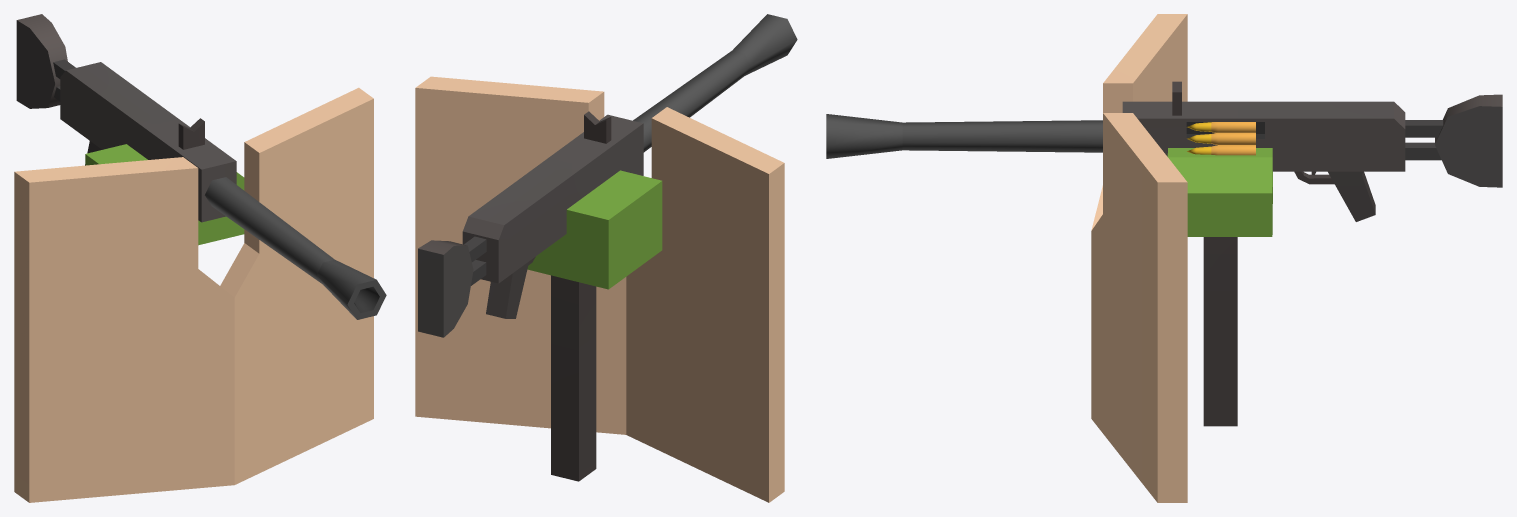
Rendered from Machine_gun_005.glb.
3 renders of one model, left to right at view 1: azimuth 30°, elevation 25°; view 2: azimuth 150°, elevation 25°; view 3: azimuth 270°, elevation 25°, orthographic. The views are drawn at different scales.
Parts seen in each view (by area): view 1: Machine_gun_005; view 2: Machine_gun_005; view 3: Machine_gun_005.
Boxes of the visible parts, <box> form: Machine_gun_005: <box>14,14,386,502</box>; Machine_gun_005: <box>415,14,797,502</box>; Machine_gun_005: <box>826,14,1502,502</box>.
Size of the model in its own units: 0.894 by 0.8214 by 1.52.
1 material, 1 textured.
